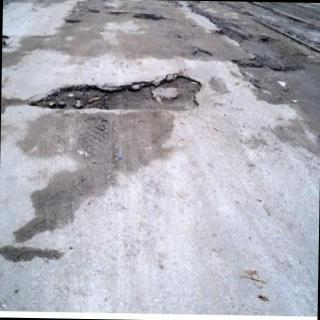pothole: (22, 74, 202, 112)
